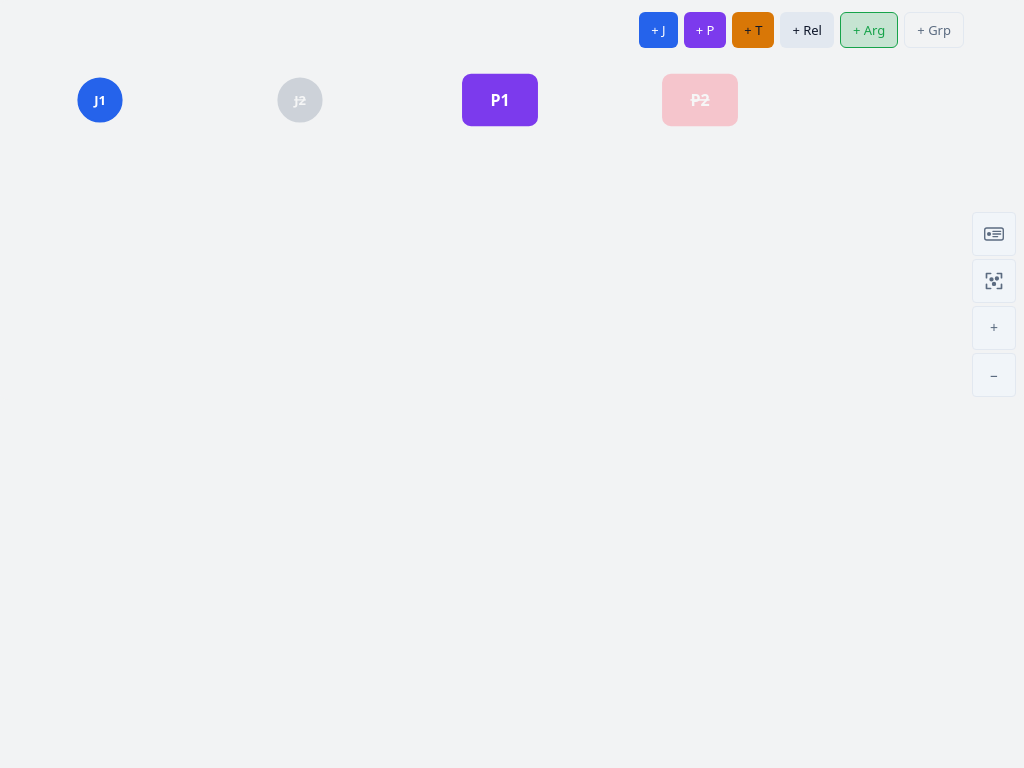
half-written forms › empties the form on Clear, without closing it
Click the button "+ J": (658, 30) [639,12,678,48]
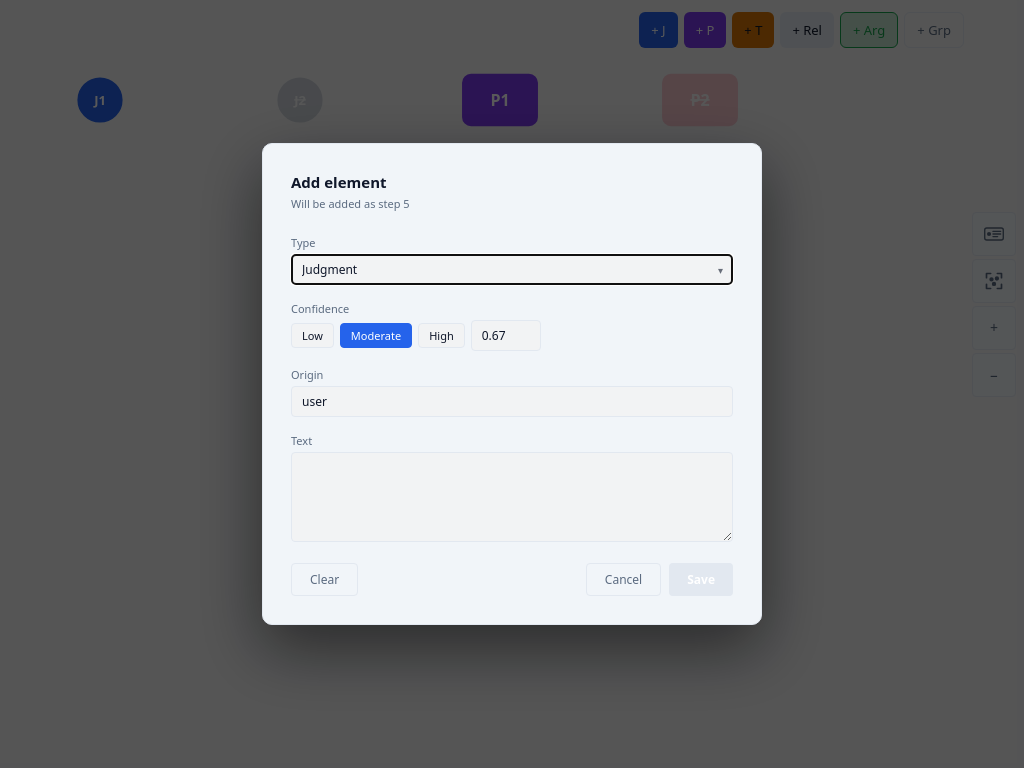
In the text box: (512, 497) [291,452,733,542], type "Torturing is wrong."
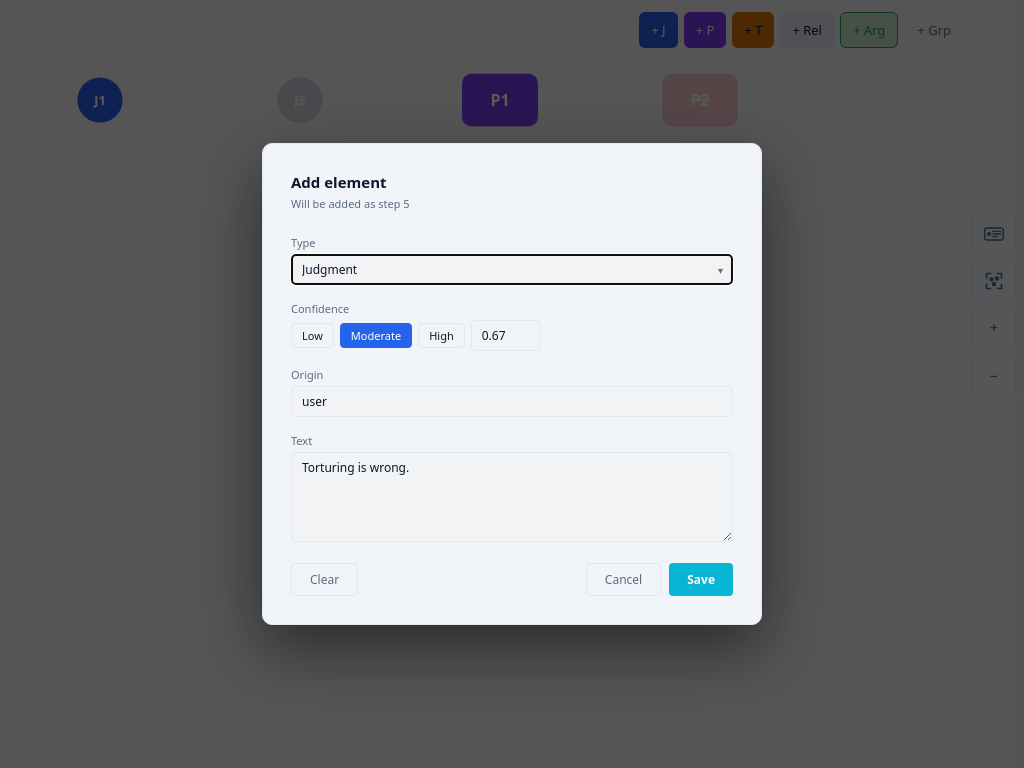
Click the button "Clear": (325, 580) [291,563,358,596]
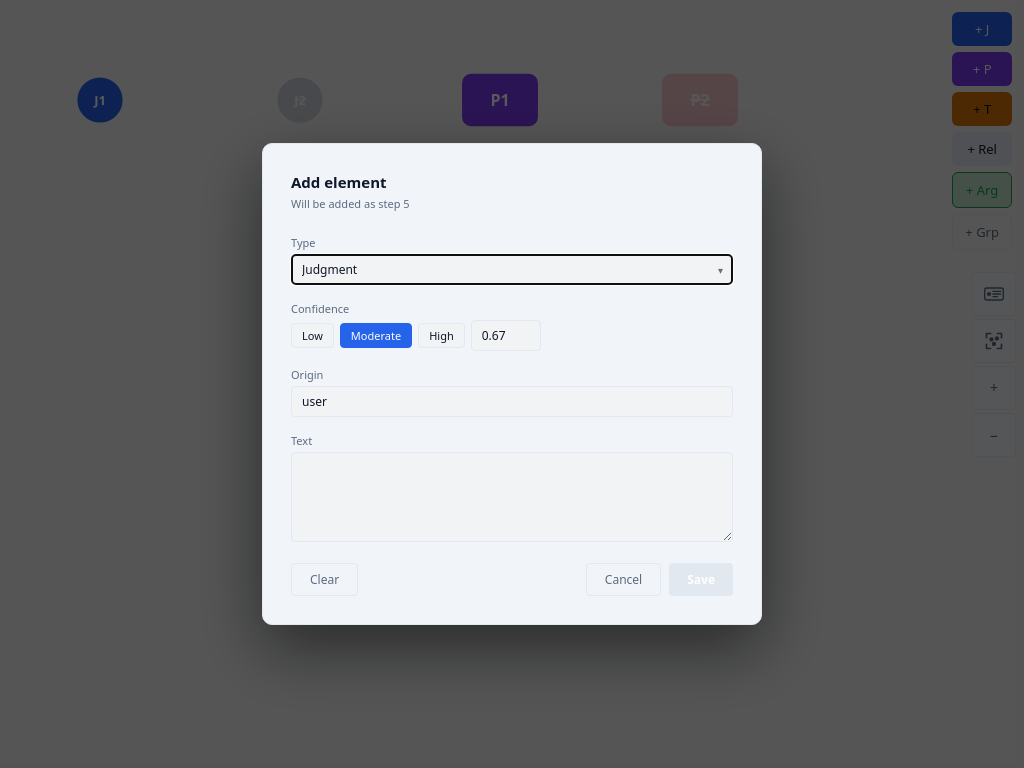
Now the text box is empty, box [291,452,733,542]
